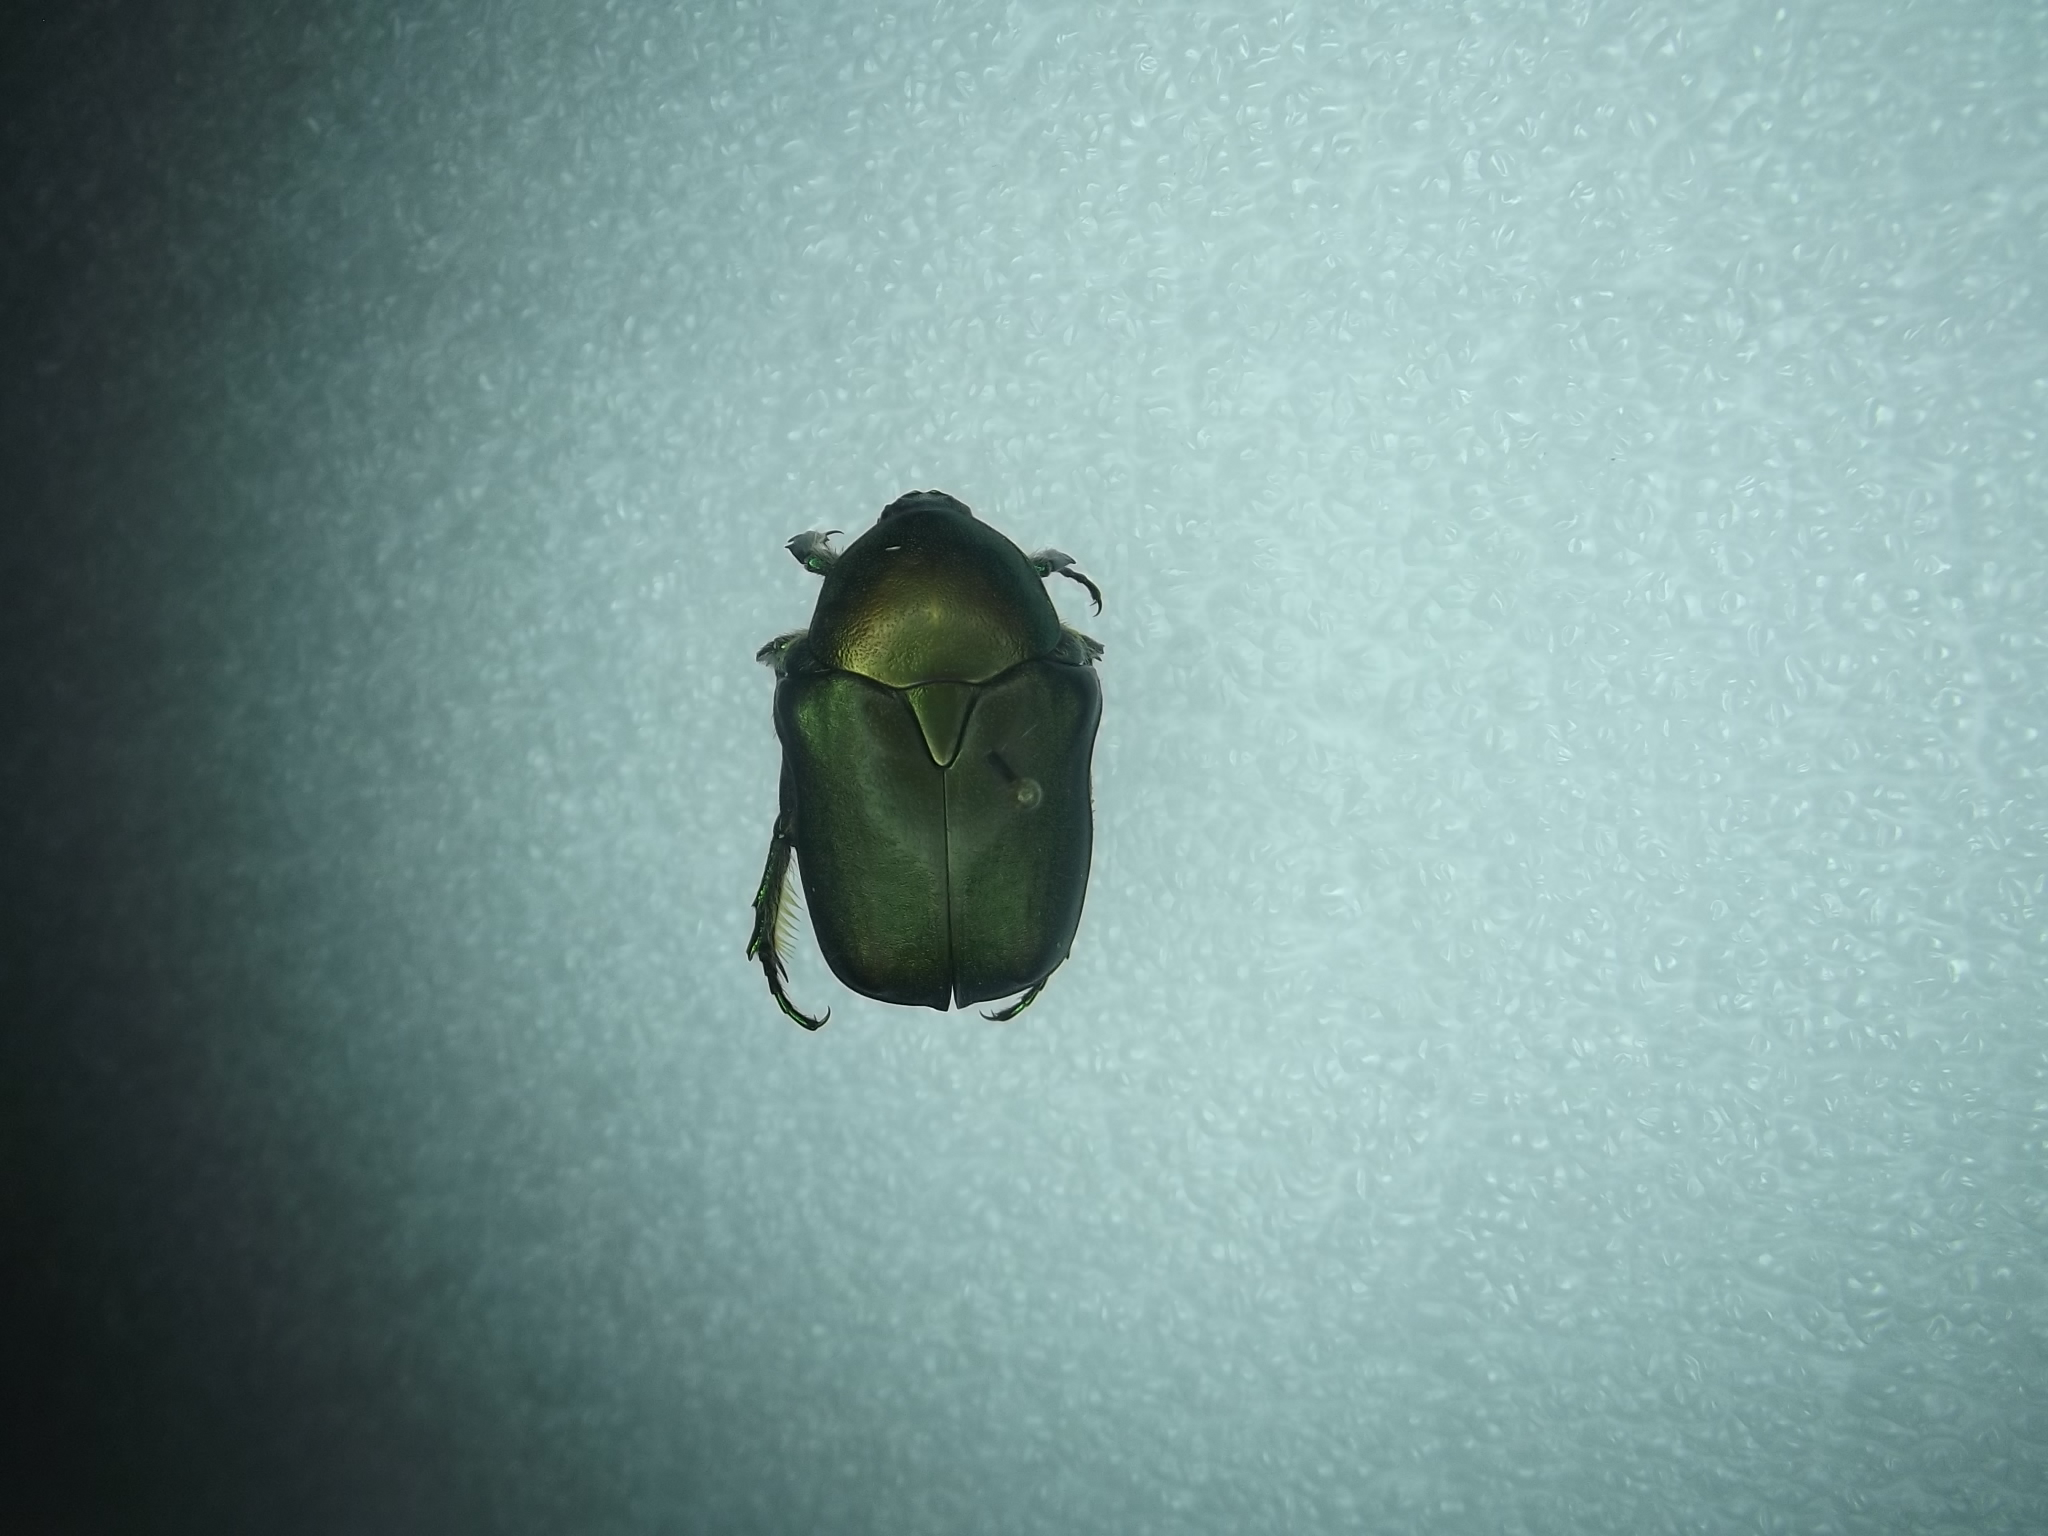Protaetia_ungarica_americana: (732, 474, 1122, 1049)
